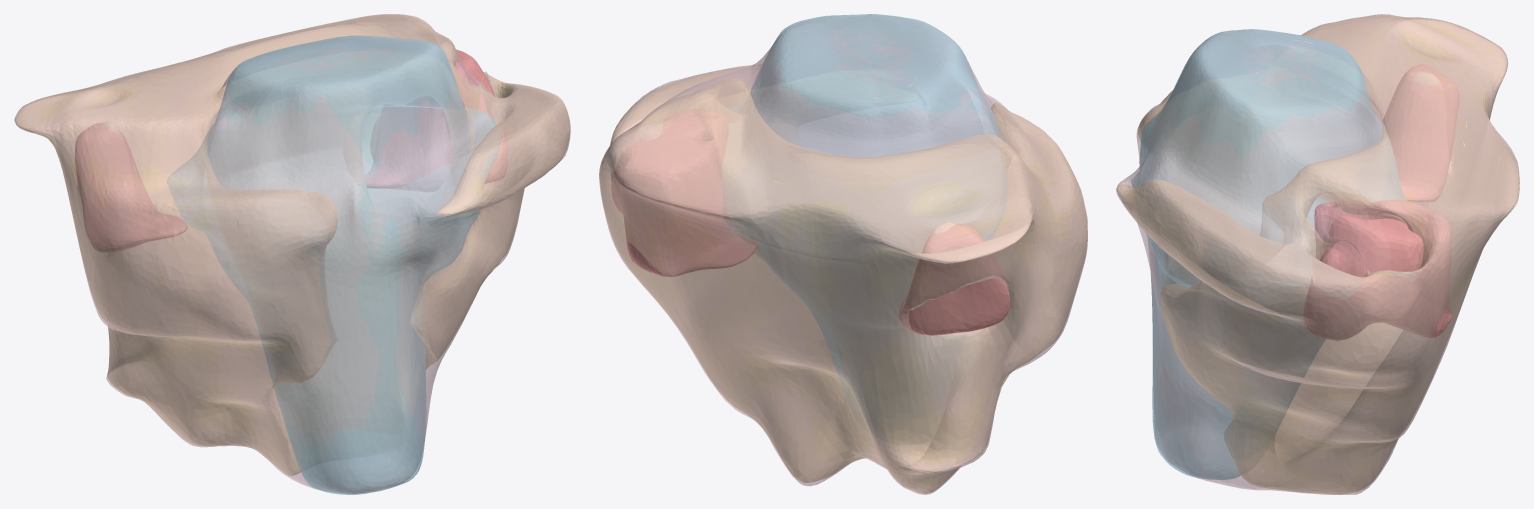
File: pv-case-001-gland.glb
The picture shows the model from 3 angles, left to right: view 1: azimuth 30°, elevation 25°; view 2: azimuth 150°, elevation 25°; view 3: azimuth 270°, elevation 25°; orthographic projection.
Visible parts, largest first — view 1: prostate_gland, peripheral_zone, transition_zone, lesion_01; view 2: prostate_gland, peripheral_zone, transition_zone, lesion_01; view 3: prostate_gland, peripheral_zone, transition_zone, lesion_01.
Boxes of the visible parts, x1=… form: prostate_gland: x1=14, y1=14, x2=570, y2=493; peripheral_zone: x1=15, y1=15, x2=569, y2=475; transition_zone: x1=167, y1=35, x2=499, y2=494; lesion_01: x1=75, y1=49, x2=508, y2=252; prostate_gland: x1=599, y1=14, x2=1087, y2=494; peripheral_zone: x1=600, y1=66, x2=1087, y2=493; transition_zone: x1=727, y1=14, x2=1007, y2=399; lesion_01: x1=611, y1=109, x2=1010, y2=335; prostate_gland: x1=1116, y1=14, x2=1519, y2=494; peripheral_zone: x1=1117, y1=15, x2=1519, y2=494; transition_zone: x1=1131, y1=29, x2=1406, y2=479; lesion_01: x1=1303, y1=64, x2=1459, y2=339.
Size of the model in its own units: 0.0511 by 0.0445 by 0.038.
